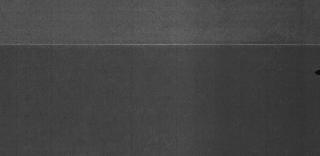punching hole: (314, 68, 320, 76)
welding line: (1, 42, 320, 50)
